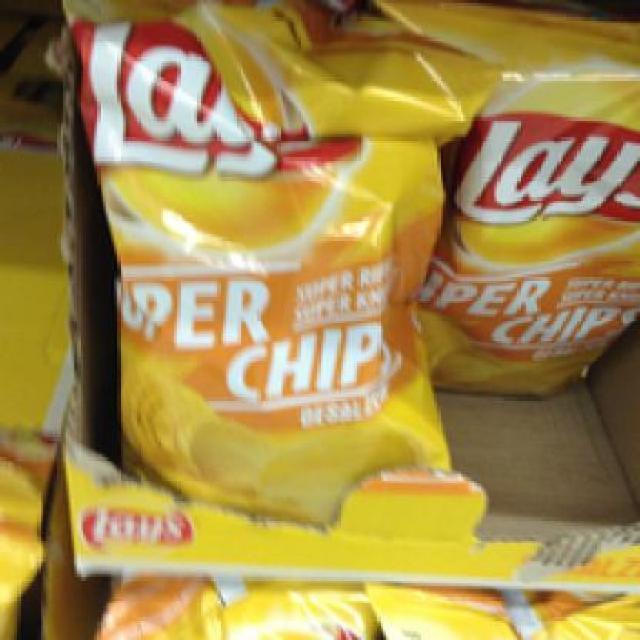Chips: (69, 11, 460, 524), (394, 2, 637, 388)
